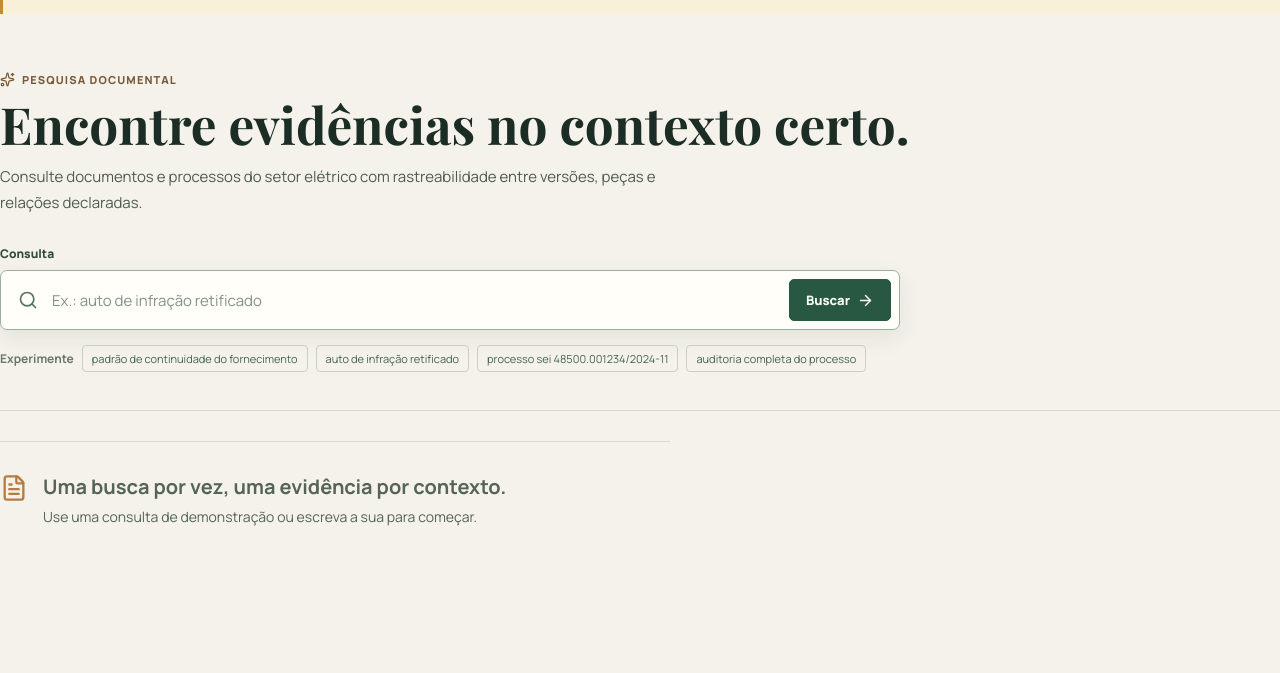
Test: SearchPage › carrega a próxima página pelo cursor e a acrescenta ao fim da lista, sem reordenar
Click the button "auto de infração retificado" at (392, 359), box left=316, top=346, right=469, bottom=372
(page scrolled)
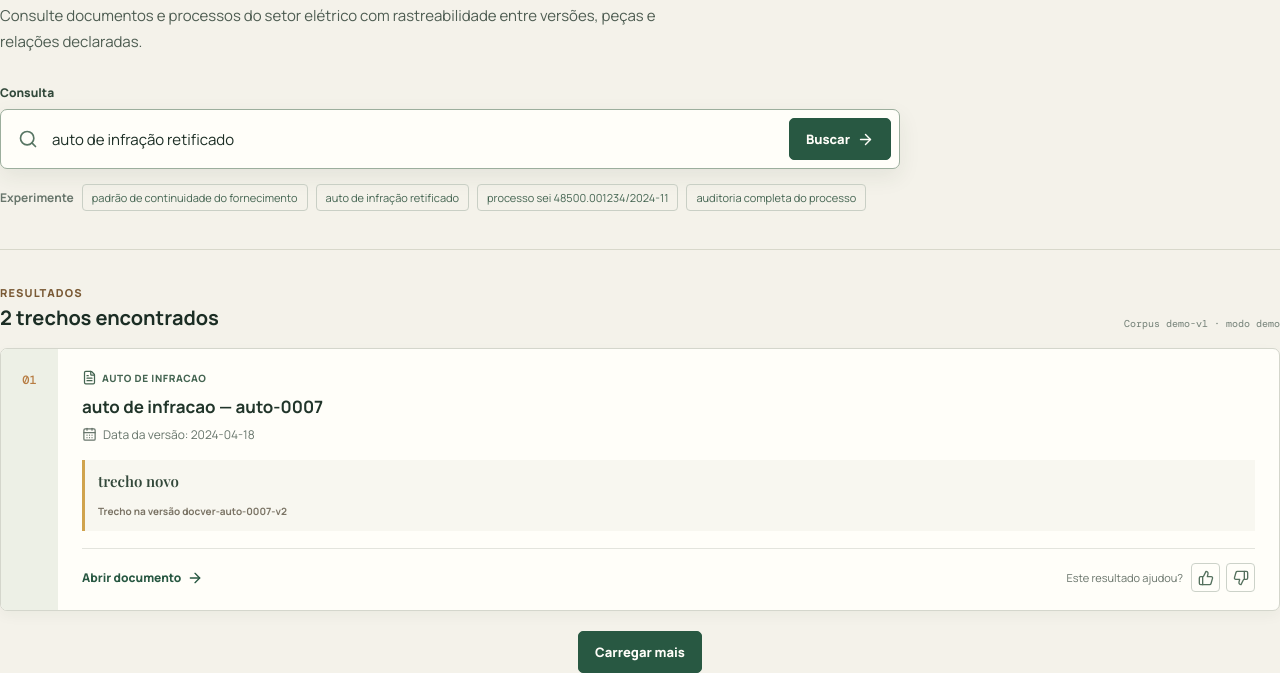
Click the button "Carregar mais" at (640, 652), box left=578, top=631, right=702, bottom=672
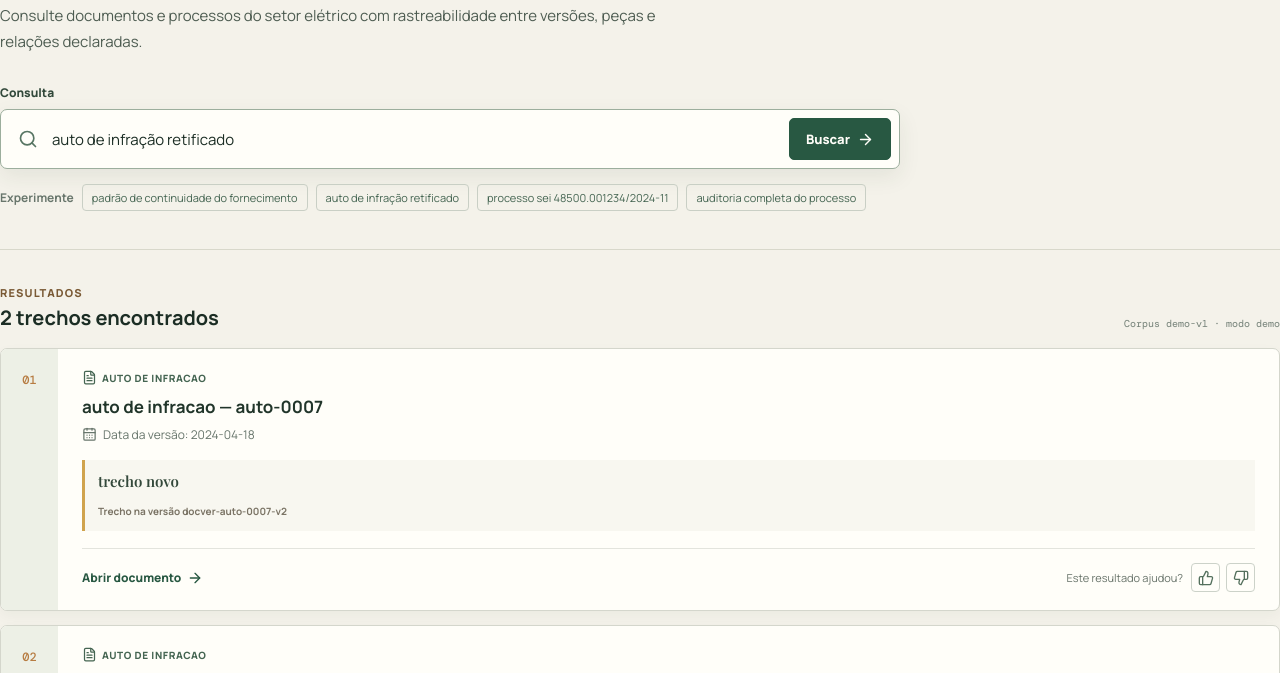
Now the heading "2 trechos encontrados" is shown, box left=0, top=306, right=219, bottom=330
Now the button "Carregar mais" is gone
